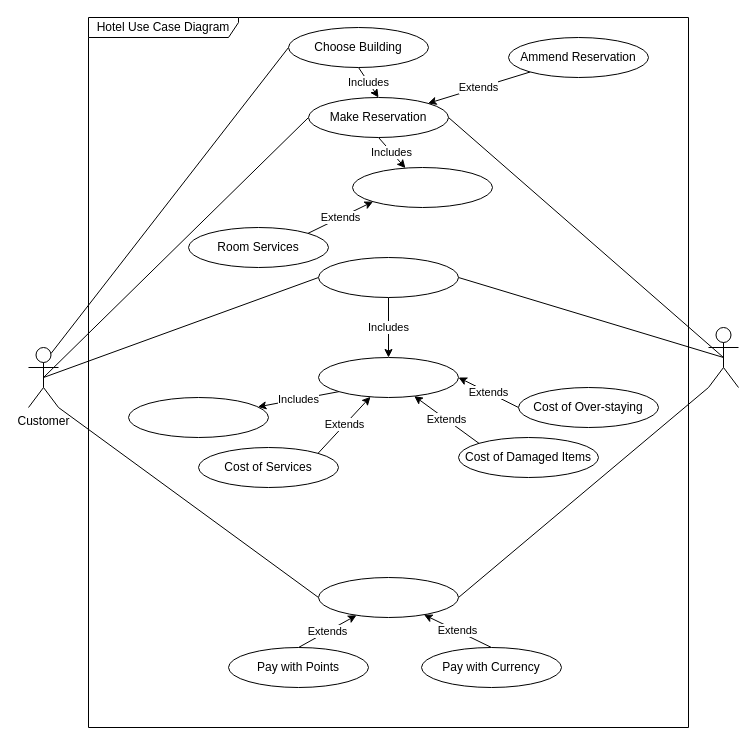
The diagram is 756 pixels wide and 745 high, and some of its shapes have lost their labels. Here are the shapes that lost their labels. From the top down, the centre of each, then its label:
At point (422, 187): "Assign Room".
At point (388, 277): "Sign Out of Room".
At point (388, 377): "Calculate Cost of Stay".
At point (723, 357): "Hotel".
At point (198, 417): "Cost of Duration".
At point (388, 597): "Bill Customer".
